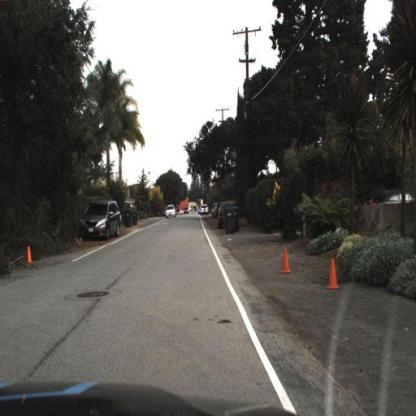car: (79, 196, 122, 244), (219, 200, 240, 231), (160, 205, 174, 221)
